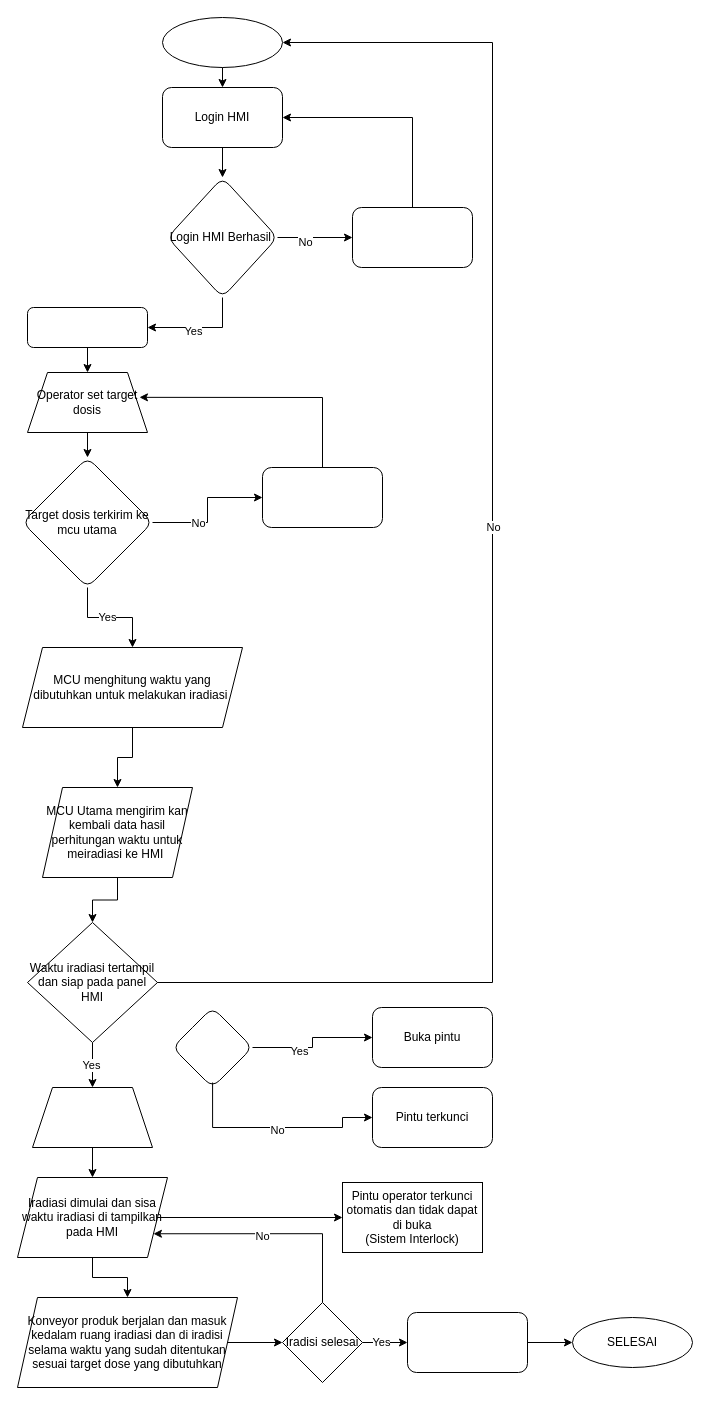
Image size: 710x1405. Some labels were removed from this diagram. Here are the shapes that lost their labels. From the top down, the centre of each, then its label:
At point 222,42: "START".
At point 412,237: "Login Kembali dengan akun yang benar".
At point 87,327: "HMI Siap".
At point 322,497: "Set target dosis kembali pada panel HMI".
At point 212,1047: "Iradisi Dimulai".
At point 92,1117: "Operator Tekan tombol start".
At point 467,1342: "konveyor produk keluar dan berhenti di tempat unloading".
